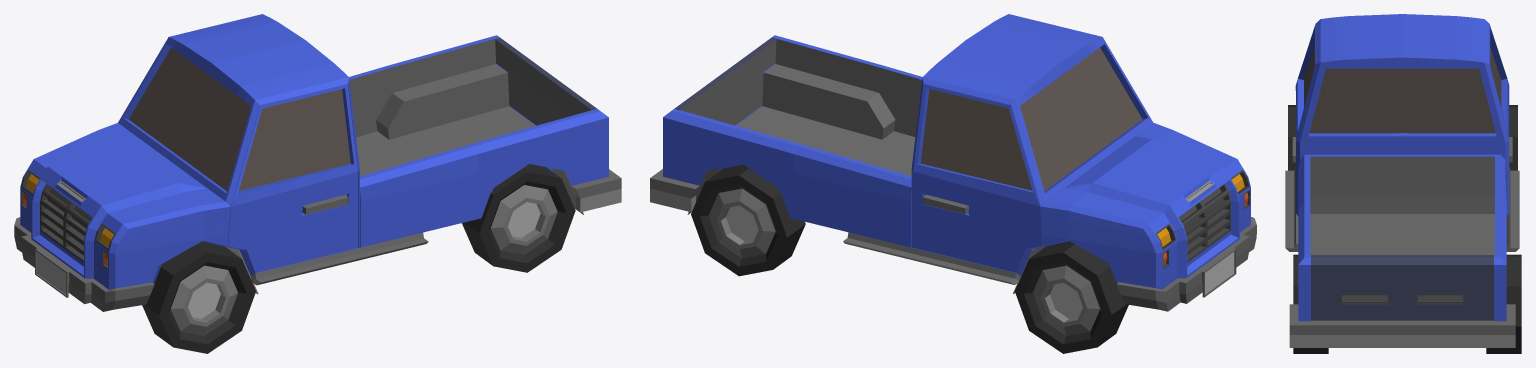
File: Blue Car.fbx
The picture shows the model from 3 angles, left to right: view 1: azimuth 30°, elevation 25°; view 2: azimuth 150°, elevation 25°; view 3: azimuth 270°, elevation 25°; orthographic projection. The views are drawn at different scales.
Parts seen in each view (by area): view 1: Blue Car; view 2: Blue Car; view 3: Blue Car.
Part boxes in pixels (x1,y1,x2,y2): Blue Car: [14, 14, 621, 353]; Blue Car: [650, 14, 1256, 353]; Blue Car: [1285, 14, 1521, 353].
Size of the model in its own units: 4 by 1.69 by 1.72.
